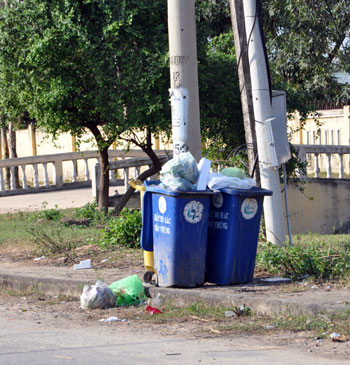plastic bag: (157, 153, 200, 190), (108, 275, 145, 305), (208, 166, 254, 190), (81, 280, 115, 312)
